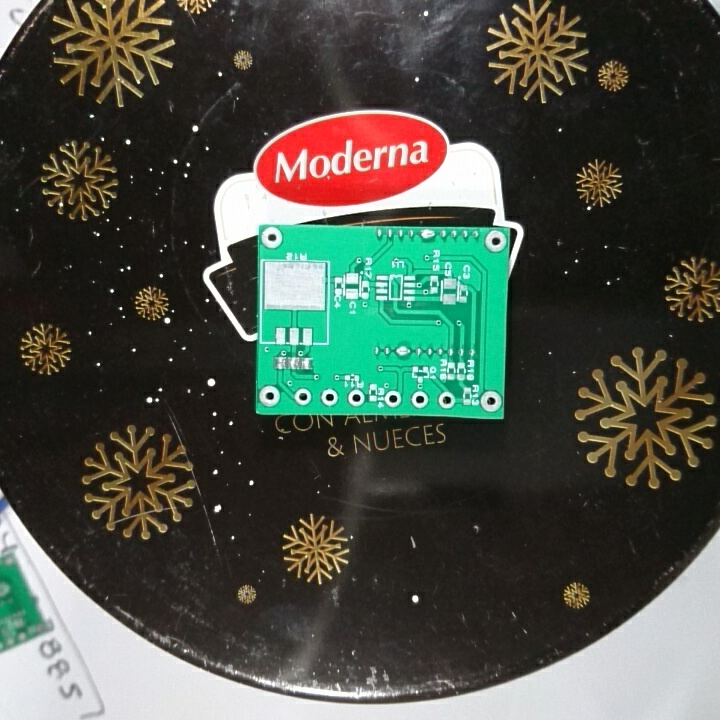F: (260, 225, 285, 252), (479, 389, 504, 415), (483, 230, 508, 255), (257, 384, 282, 409), (408, 389, 431, 412), (320, 387, 342, 409), (292, 387, 312, 407), (383, 389, 402, 409), (346, 388, 365, 408), (437, 390, 456, 409)
P: (394, 343, 412, 362), (419, 227, 439, 243)
